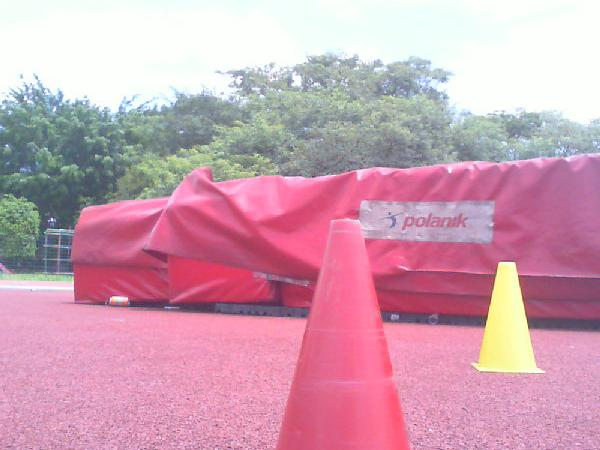0 cone: (273, 220, 410, 450), (477, 263, 536, 373)
